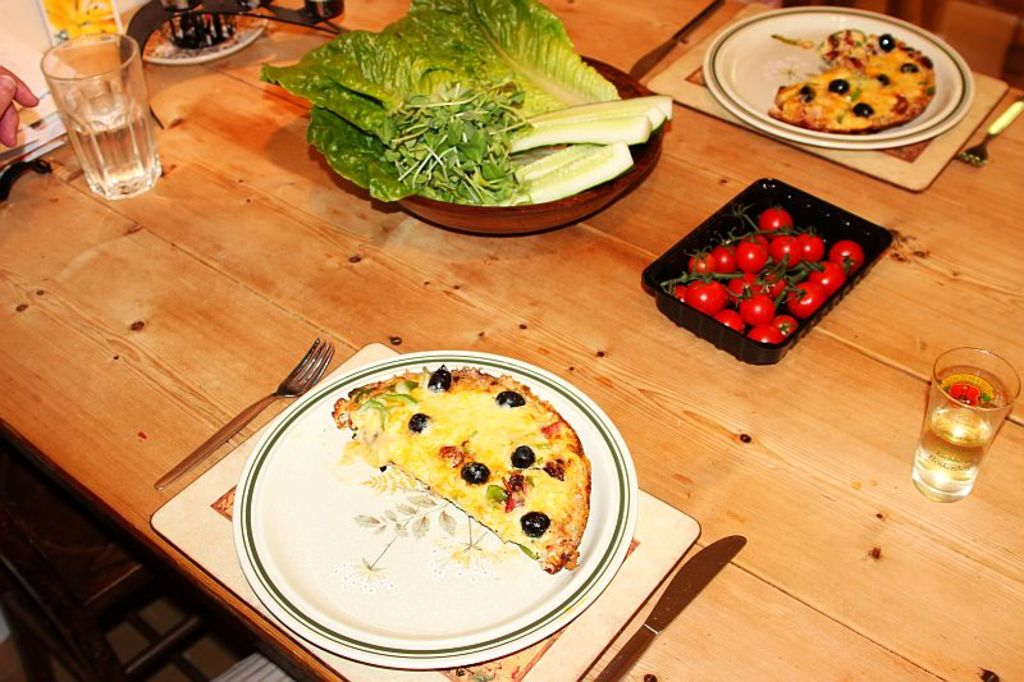Pizza: (328, 356, 595, 574), (753, 19, 983, 139)
